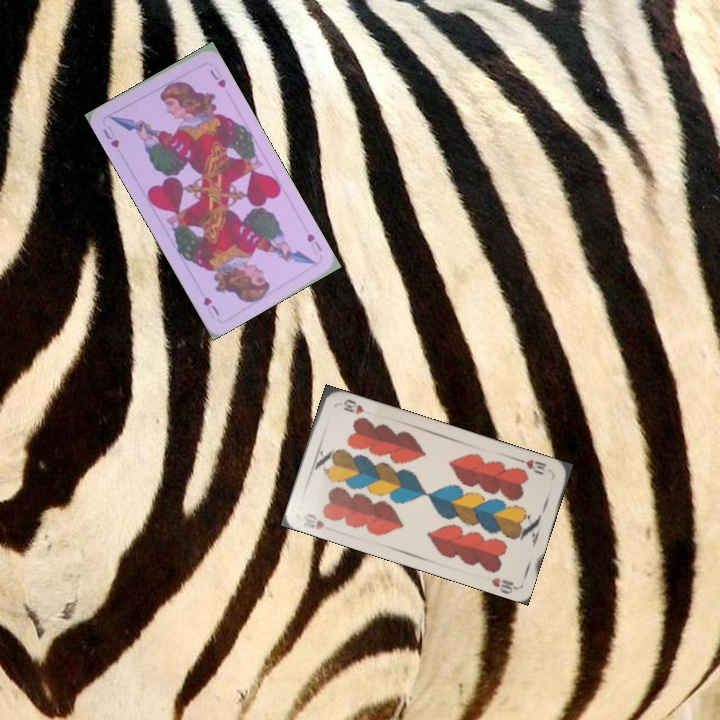H10: (515, 455, 549, 477), (299, 509, 327, 533)
HU: (99, 122, 122, 151), (303, 229, 325, 257)
